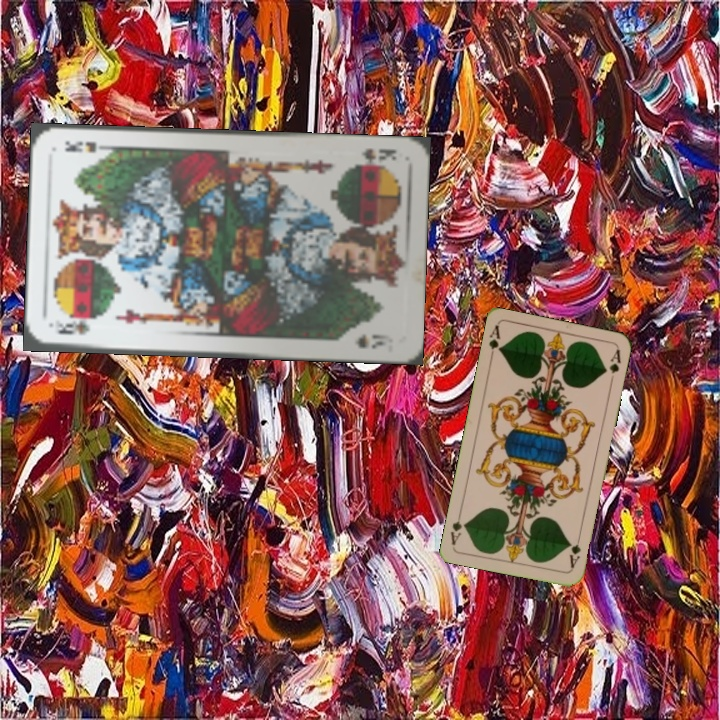GA: (485, 322, 504, 363), (565, 531, 583, 571)
SK: (350, 144, 399, 169), (50, 316, 92, 337)
